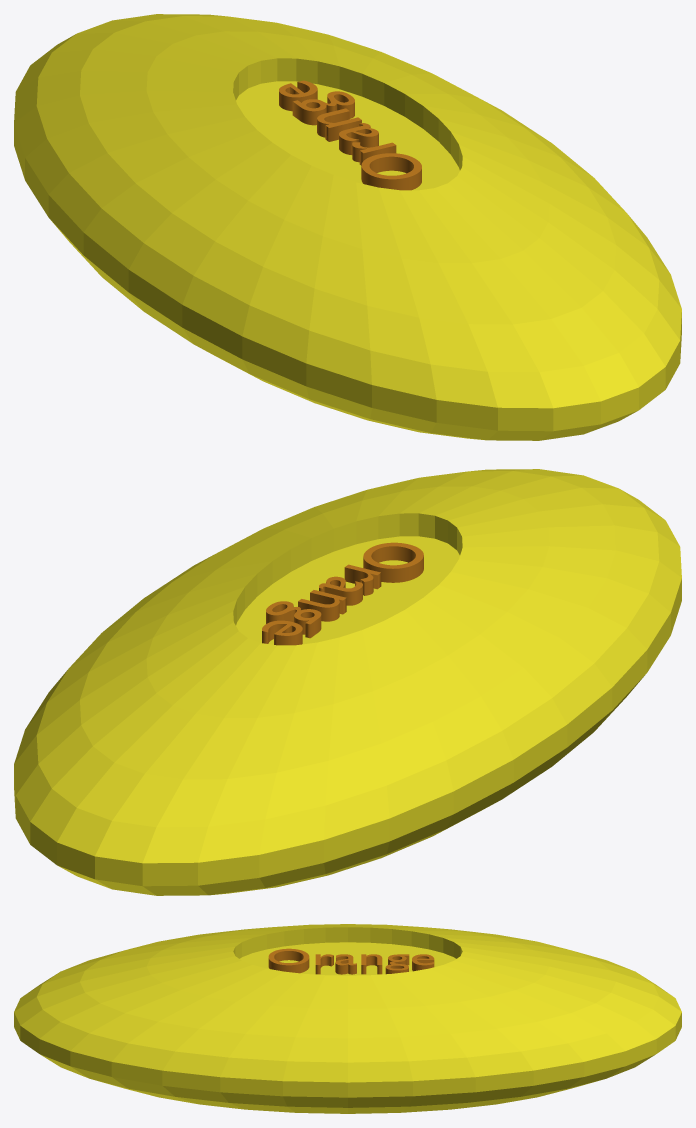
Rendered from seife.glb.
3 views of the same model, one above another, from view 1: azimuth 30°, elevation 25°; view 2: azimuth 150°, elevation 25°; view 3: azimuth 270°, elevation 25° (orthographic). The views are drawn at different scales.
Parts seen in each view (by area): view 1: Soap; view 2: Soap; view 3: Soap.
Boxes of the visible parts, bbox=[...] form: Soap: bbox=[14, 14, 681, 440]; Soap: bbox=[14, 469, 681, 895]; Soap: bbox=[14, 924, 681, 1113].
Bounding box in the file's own units: 2 × 0.8 × 4.
